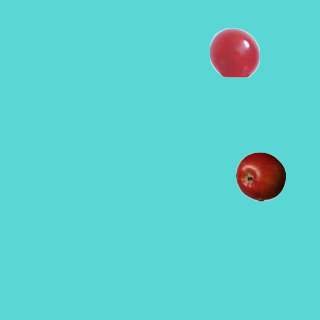Apple Braeburn: (235, 151, 285, 201)
Redcurrant: (209, 27, 259, 77)
